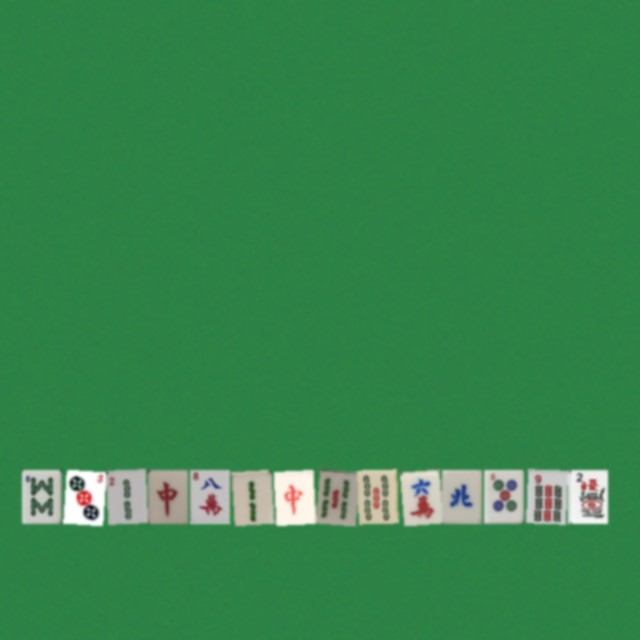tile: (21, 469, 61, 523), (63, 469, 103, 523), (105, 469, 145, 523), (147, 469, 187, 523), (189, 469, 229, 523), (231, 469, 271, 523), (273, 469, 313, 523), (315, 469, 355, 523), (357, 469, 397, 523), (399, 469, 439, 523), (441, 469, 481, 523), (483, 469, 523, 523), (525, 469, 565, 523), (567, 469, 607, 523)
